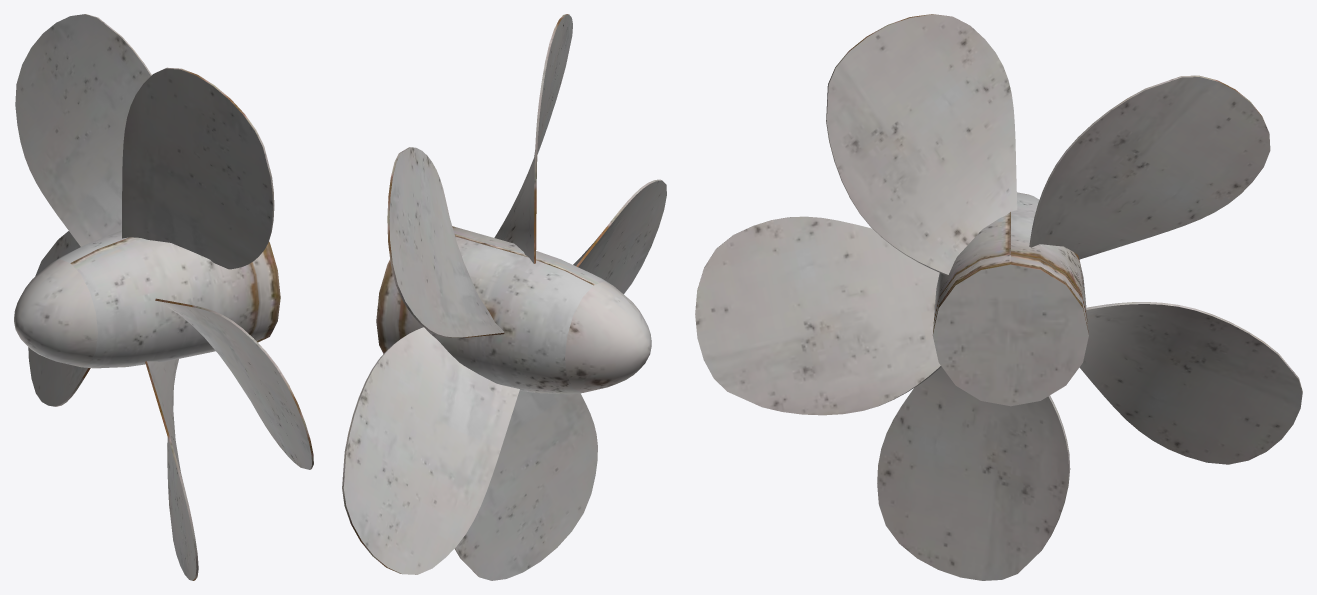
Rendered from propeller.glb.
The picture shows the model from 3 angles, left to right: view 1: azimuth 30°, elevation 25°; view 2: azimuth 150°, elevation 25°; view 3: azimuth 270°, elevation 25°; orthographic projection. The views are drawn at different scales.
Parts seen in each view (by area): view 1: propeller; view 2: propeller; view 3: propeller.
Part boxes in pixels (x1,y1,x2,y2): propeller: (14, 14, 313, 580); propeller: (342, 14, 666, 580); propeller: (695, 14, 1302, 580).
Bounding box in the file's own units: 1.19 × 2.59 × 2.57.
Materials: 1 (1 with a texture image).
